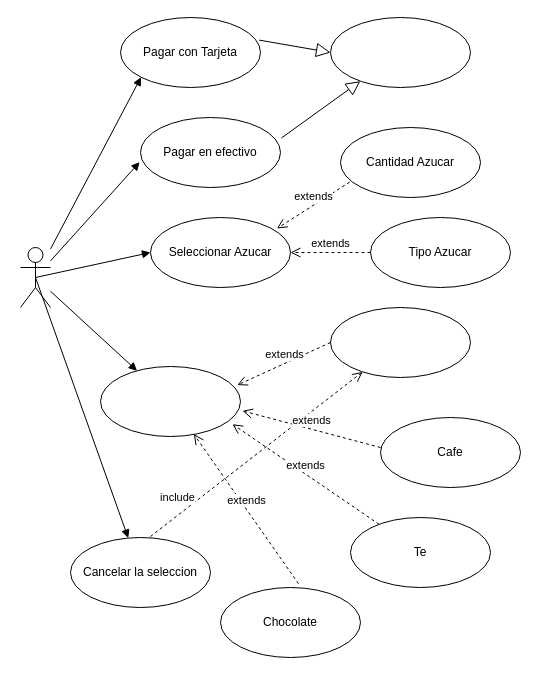
Some shapes in this 538 by 675 pixel diagram are drawn without their labels. The shapes that lost their labels are listed below. From the top down, each one's centre as x and y in pixels, then its label:
the point at 400,52: Pagar
the point at 35,277: Cliente
the point at 400,342: Dar vueltas
the point at 170,401: Seleccionar Producto
